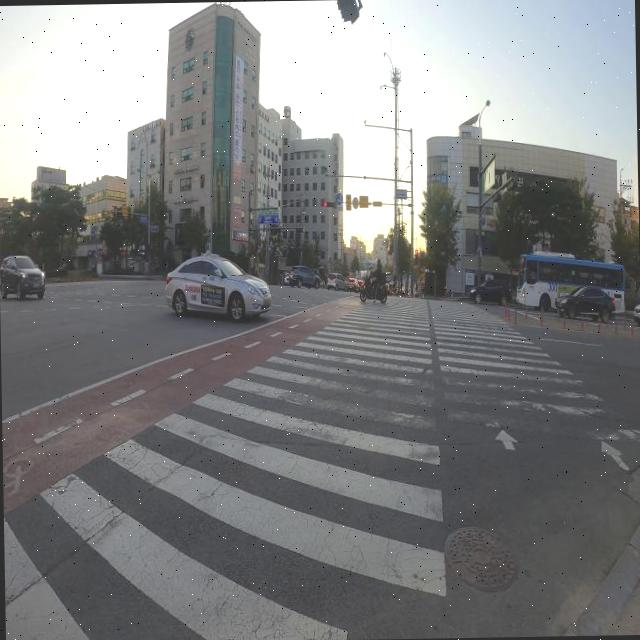crosswalk: (3, 292, 640, 640)
